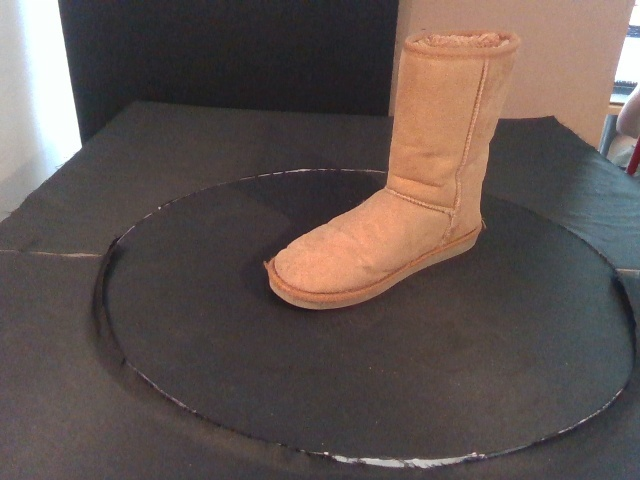shoe: (265, 28, 520, 311)
